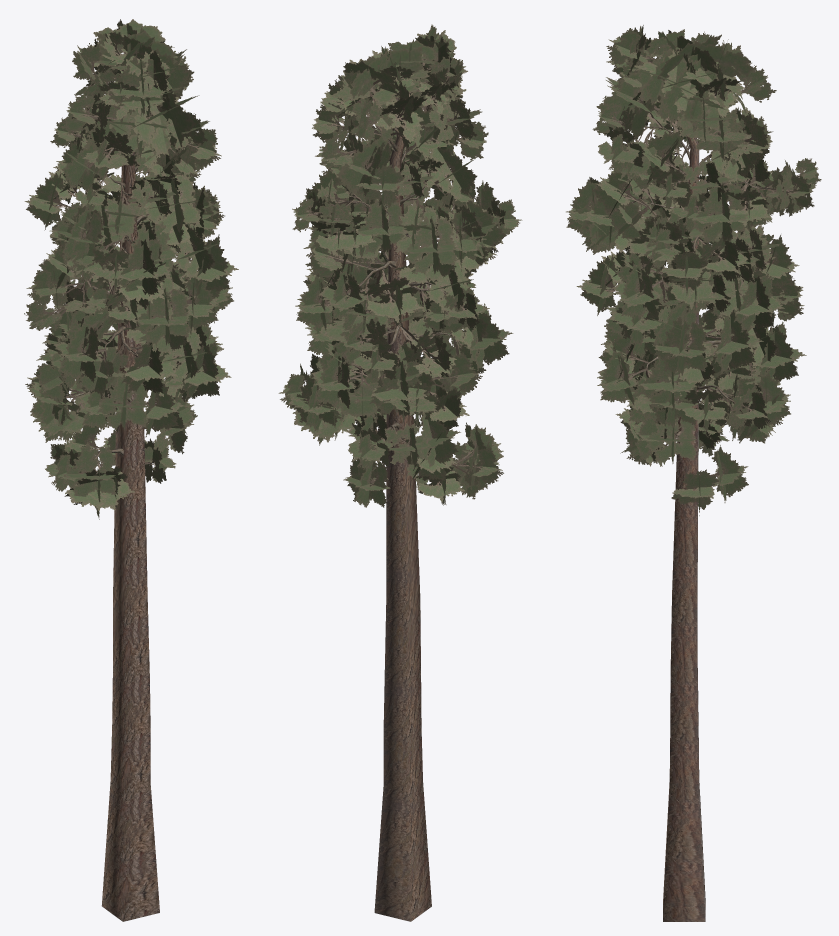
Rendered from SequoiaSempervirens.glb.
3 renders of one model, left to right at view 1: azimuth 30°, elevation 25°; view 2: azimuth 150°, elevation 25°; view 3: azimuth 270°, elevation 25°, orthographic.
Visible parts, largest first — view 1: California_Redwood__Realistic_LOD3; view 2: California_Redwood__Realistic_LOD3; view 3: California_Redwood__Realistic_LOD3.
Boxes of the visible parts, x1=… form: California_Redwood__Realistic_LOD3: x1=24, y1=19, x2=238, y2=921; California_Redwood__Realistic_LOD3: x1=278, y1=24, x2=522, y2=921; California_Redwood__Realistic_LOD3: x1=566, y1=25, x2=821, y2=921.
Size of the model in its own units: 18.32 by 76.16 by 20.59.
1 material, 1 textured.
